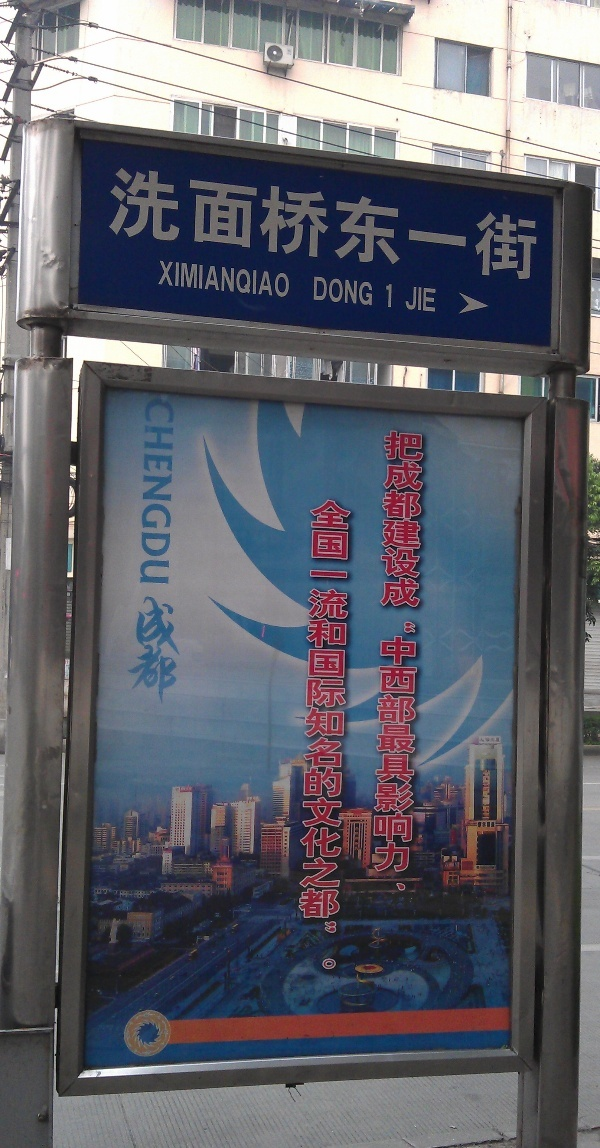text: (337, 497, 353, 971), (321, 497, 336, 971), (385, 428, 400, 892), (401, 428, 416, 892), (309, 497, 320, 971), (417, 428, 427, 892), (145, 398, 160, 586), (161, 398, 176, 586), (113, 166, 128, 285), (129, 166, 144, 285), (145, 166, 160, 285), (161, 166, 176, 285), (177, 166, 192, 285), (193, 166, 208, 285), (209, 166, 224, 285), (225, 166, 240, 285), (241, 166, 256, 285), (257, 166, 272, 285), (273, 166, 288, 285), (289, 166, 304, 285), (305, 166, 320, 285), (321, 166, 336, 285), (337, 166, 352, 285), (353, 166, 368, 285), (369, 166, 384, 285), (385, 166, 400, 285), (401, 166, 416, 285), (417, 166, 432, 285), (433, 166, 448, 285), (449, 166, 464, 285), (465, 166, 480, 285), (481, 166, 496, 285), (497, 166, 512, 285), (513, 166, 528, 285), (145, 593, 160, 703), (161, 593, 176, 703), (130, 593, 144, 703), (529, 166, 539, 285), (382, 428, 384, 892), (161, 260, 176, 299), (177, 260, 192, 299), (193, 260, 208, 299), (209, 260, 224, 299), (225, 260, 240, 299), (241, 260, 256, 299), (257, 260, 272, 299), (273, 260, 288, 299), (177, 593, 182, 703), (321, 275, 336, 308), (337, 275, 352, 308), (353, 275, 368, 308), (417, 287, 432, 313), (386, 284, 400, 309), (355, 827, 368, 851), (406, 287, 416, 313), (313, 275, 320, 308), (143, 398, 144, 586), (369, 275, 373, 308), (111, 166, 112, 285), (433, 287, 437, 313), (289, 260, 291, 299), (481, 738, 496, 743), (481, 822, 495, 827), (159, 260, 160, 299), (247, 797, 256, 801), (425, 803, 432, 806), (497, 738, 500, 743), (478, 822, 480, 827), (257, 797, 259, 801), (433, 803, 435, 806)
